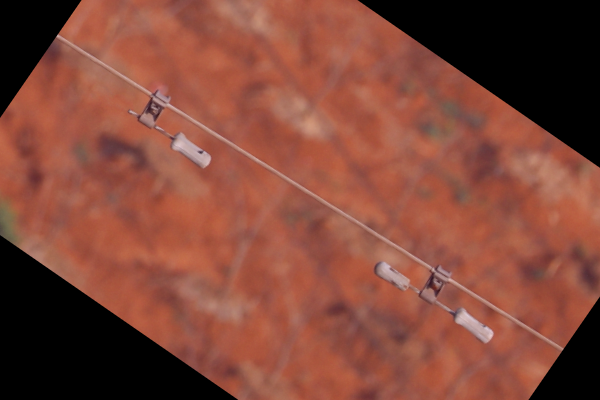damper: (370, 256, 496, 345)
damper_defect: (124, 88, 214, 172)
